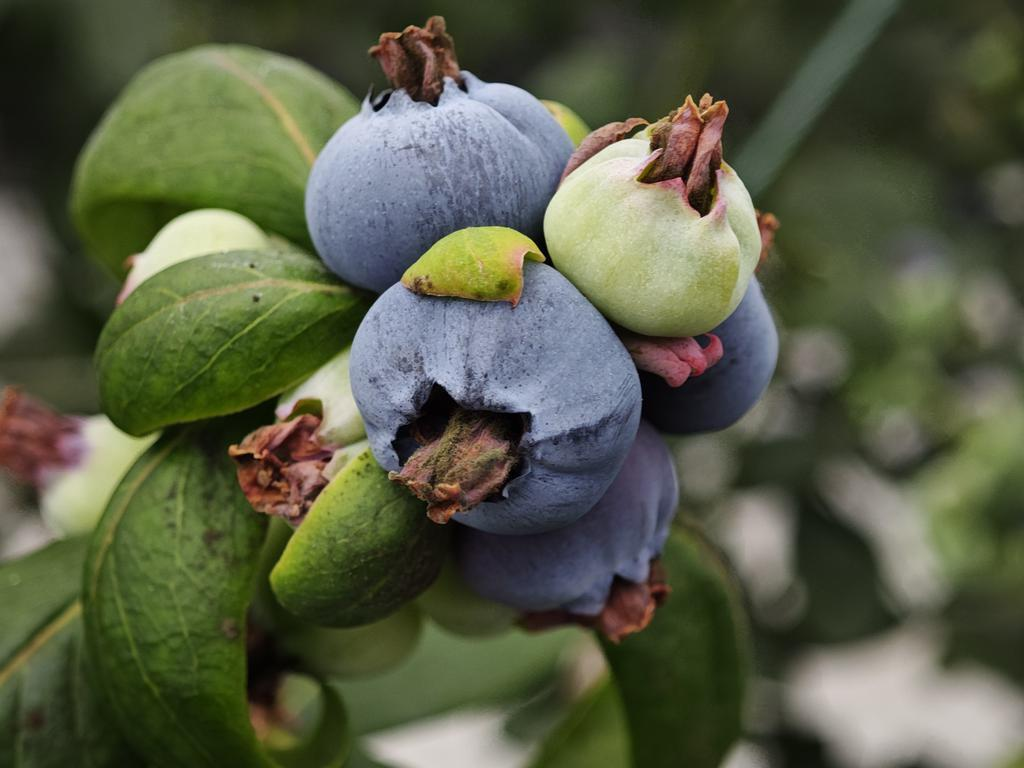RipeBlueBerry: (351, 266, 631, 531), (302, 69, 558, 282)
UnripeBlueBerry: (554, 113, 771, 334)
